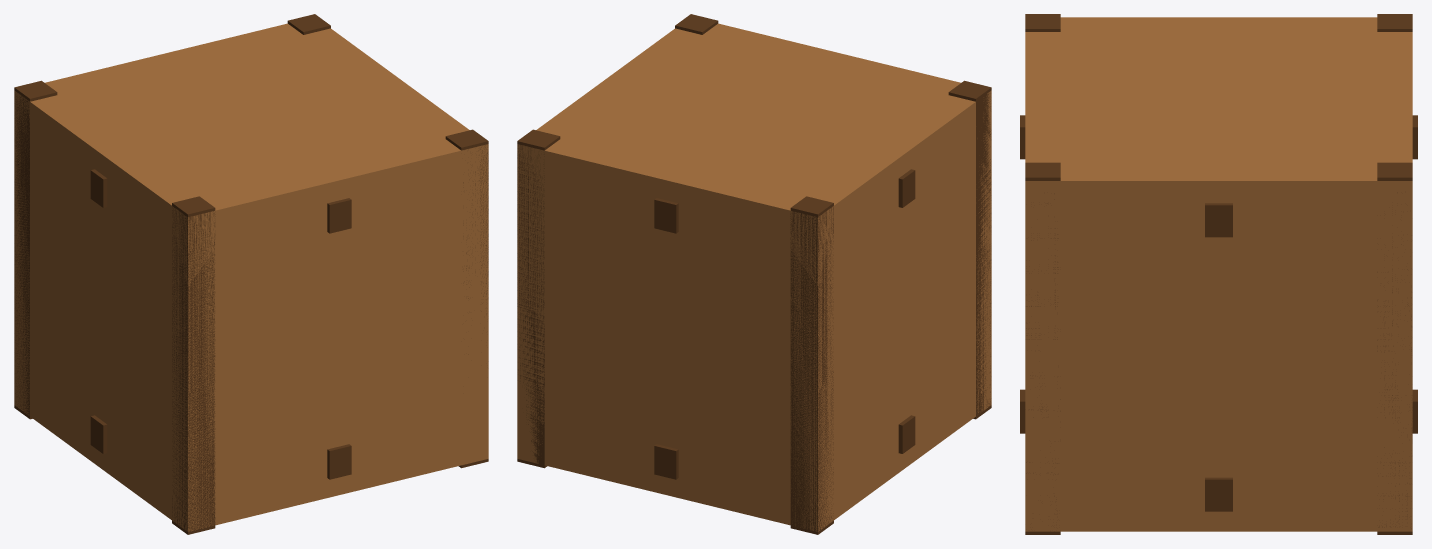
Rendered from mod_crate.glb.
3 renders of one model, left to right at view 1: azimuth 30°, elevation 25°; view 2: azimuth 150°, elevation 25°; view 3: azimuth 270°, elevation 25°, orthographic. The views are drawn at different scales.
Visible parts, largest first — view 1: Mod_Crate; view 2: Mod_Crate; view 3: Mod_Crate.
Part boxes in pixels (bbox=[...]): Mod_Crate: bbox=[14, 14, 488, 534]; Mod_Crate: bbox=[517, 14, 991, 534]; Mod_Crate: bbox=[1020, 14, 1417, 534].
Size of the model in its own units: 1.13 by 1.12 by 1.13.
